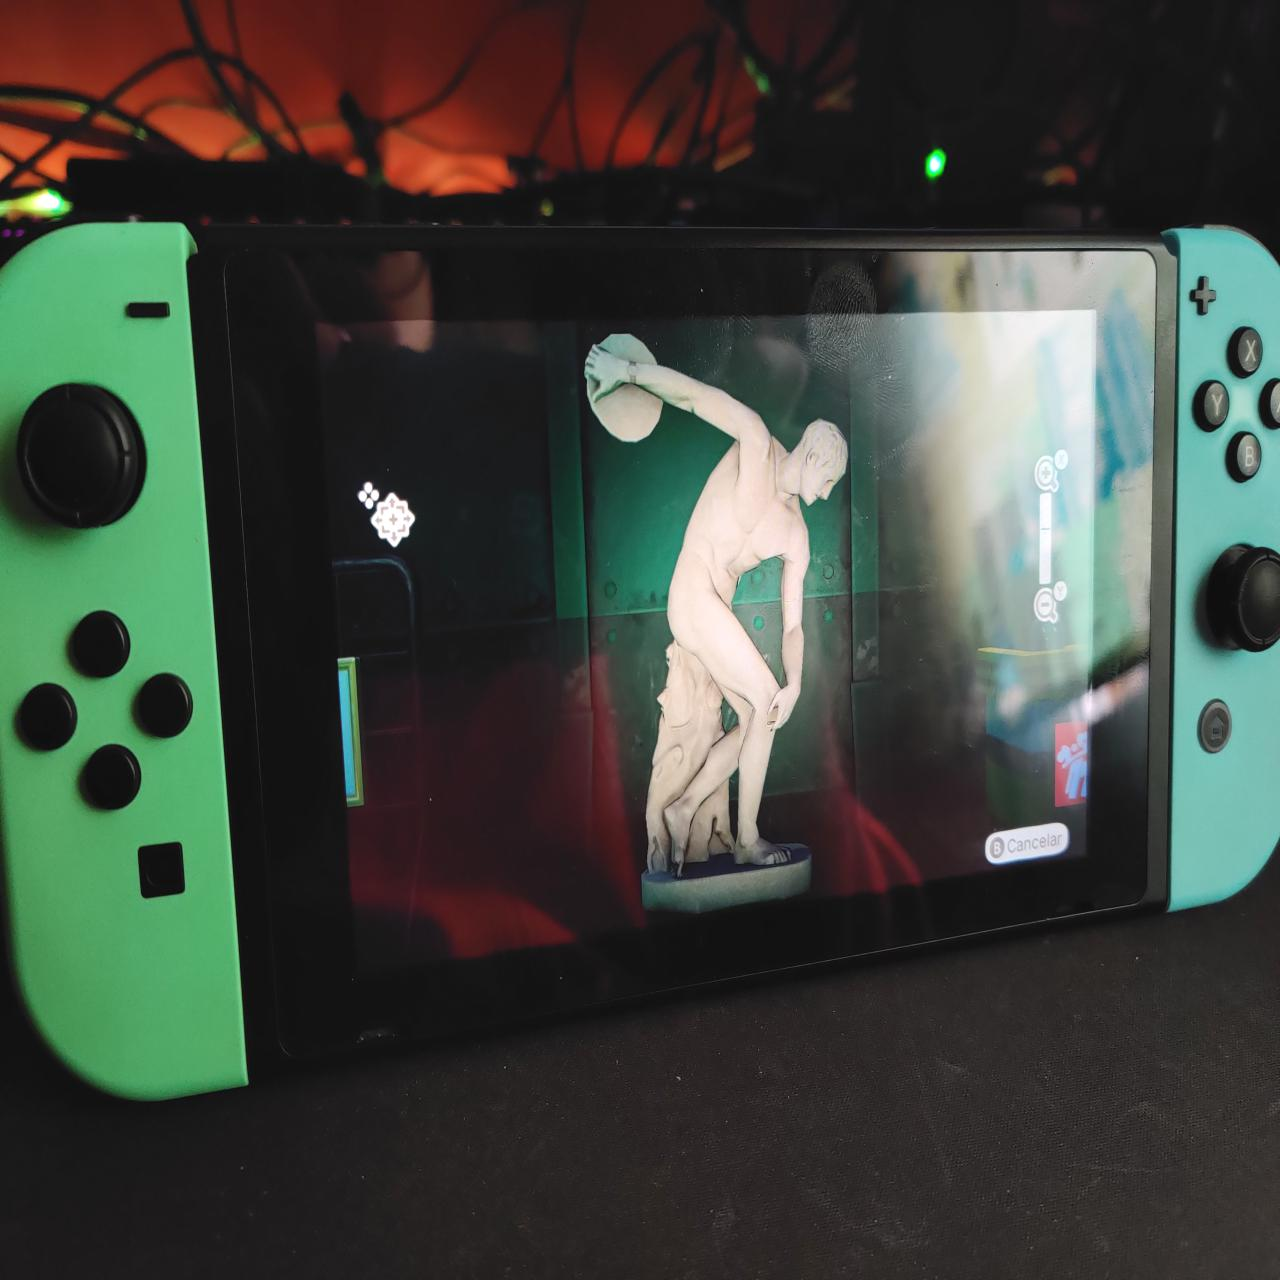DiskobolosFake: (583, 324, 851, 901)
